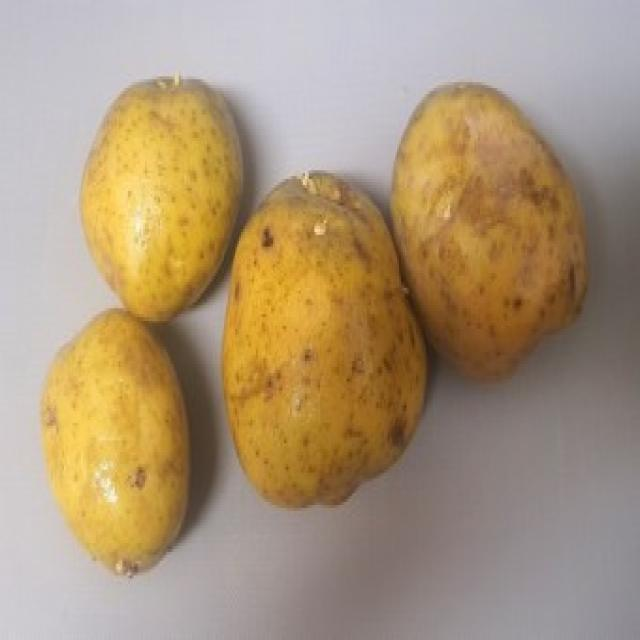potato: (220, 157, 436, 509), (388, 73, 603, 382), (78, 65, 254, 334), (39, 294, 190, 606)
